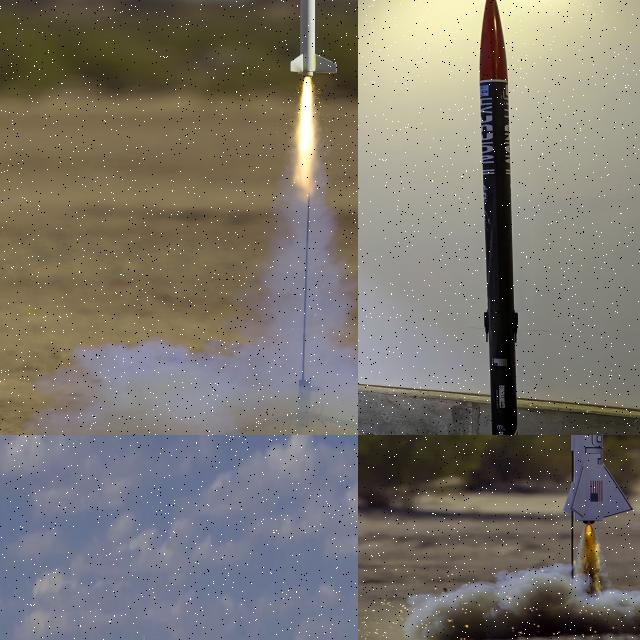Rocket: (479, 0, 518, 435), (561, 435, 636, 524), (289, 0, 338, 80)
